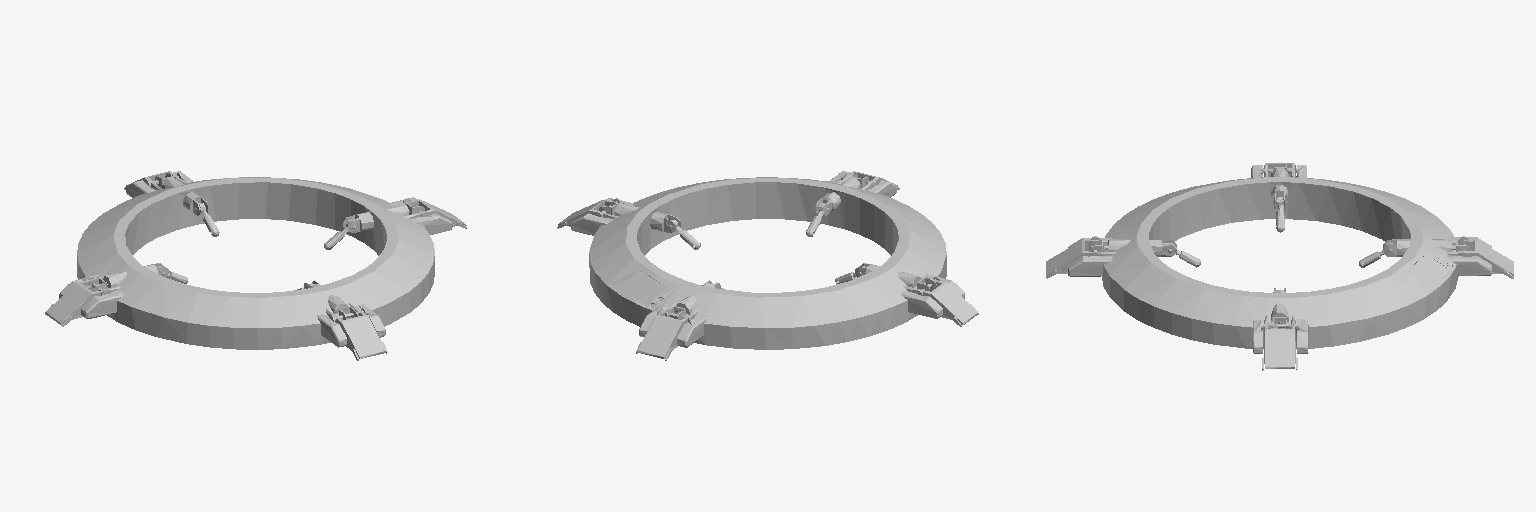
The picture shows the model from 3 angles: view 1: azimuth 30°, elevation 25°; view 2: azimuth 150°, elevation 25°; view 3: azimuth 270°, elevation 25°; orthographic projection.
Parts seen in each view (by area): view 1: Enclosure_Thing_LOWMESH; view 2: Enclosure_Thing_LOWMESH; view 3: Enclosure_Thing_LOWMESH.
Part boxes in pixels (x1,y1,x2,y2): Enclosure_Thing_LOWMESH: (45,171,466,360); Enclosure_Thing_LOWMESH: (557,171,978,360); Enclosure_Thing_LOWMESH: (1046,163,1513,370).
Size of the model in its own units: 2.21 by 0.1917 by 2.21.